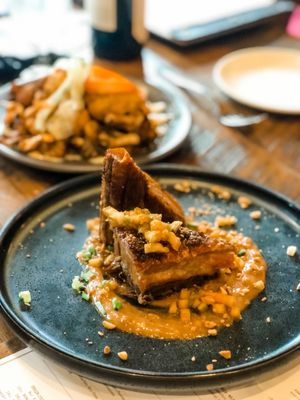soup: (72, 151, 267, 341)
